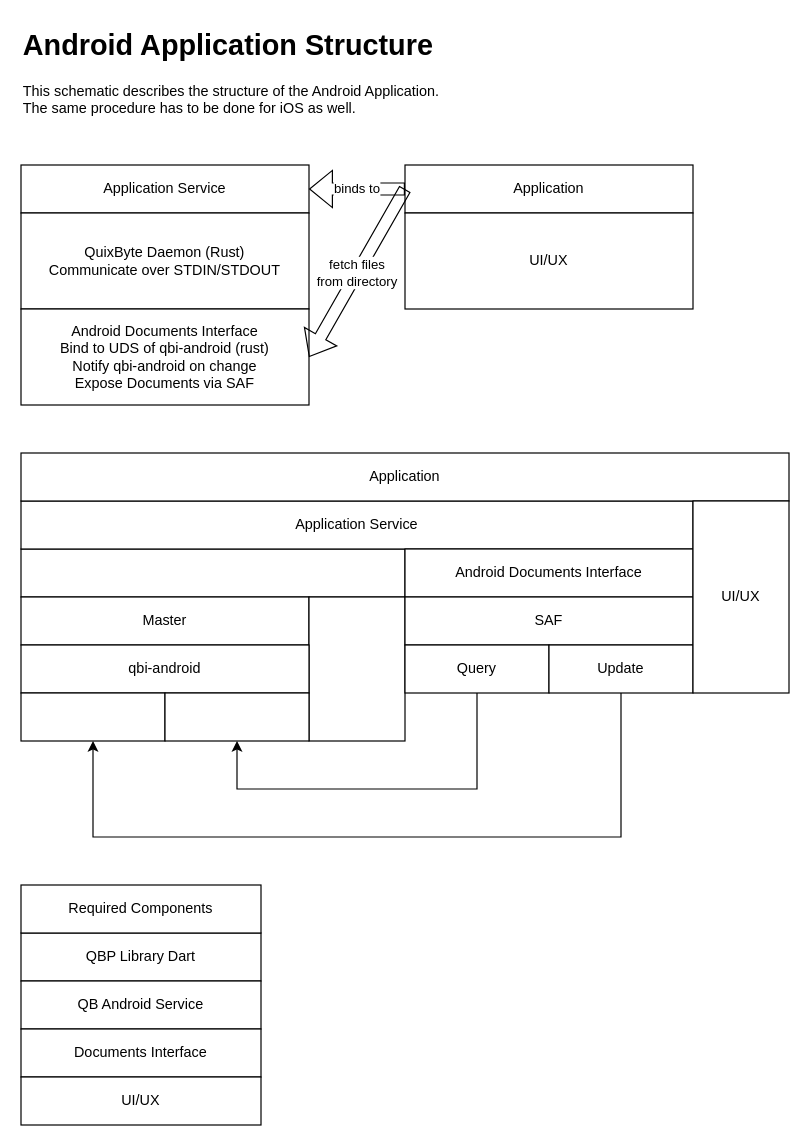
Image size: 810x1146. Some labels were removed from this diagram. The shapes that lost their labels are listed below. From the top down, each one's centre as x and y in pixels, then its label:
At point 212,572: "Daemon".
At point 356,668: "Start/Stop Add/Remove Hooks & Interfaces".
At point 92,716: "UDS".
At point 236,716: "Files".
